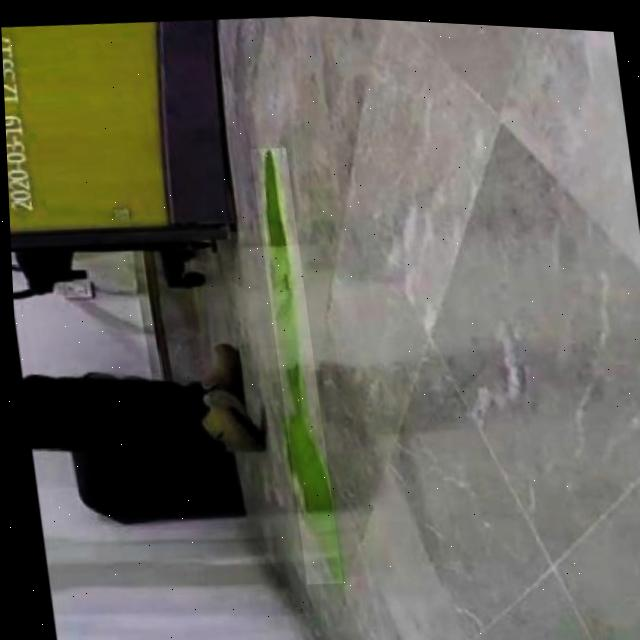spillage: (259, 145, 334, 580)
